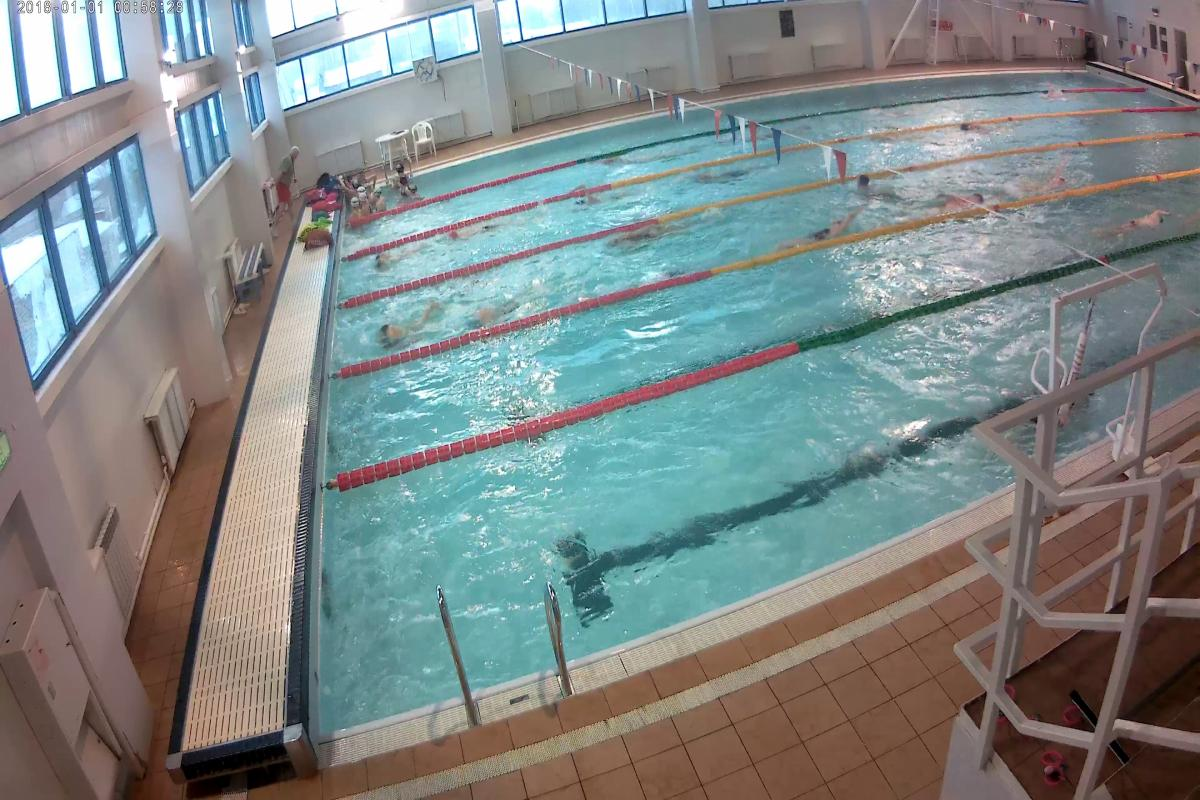swimmer: (782, 210, 863, 248), (1088, 206, 1168, 242), (375, 308, 450, 346), (460, 295, 530, 328), (606, 223, 696, 247), (947, 191, 984, 215)
